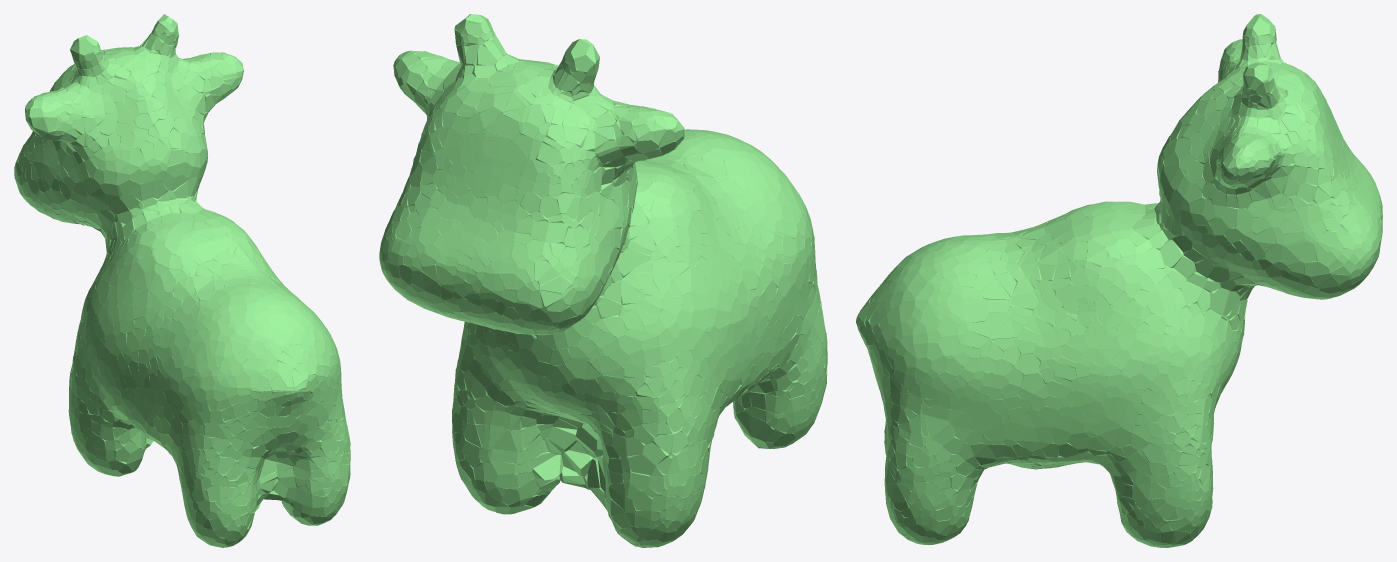
The model's file is cow_clean_vorolight.glb.
3 views of the same model, side by side, from view 1: azimuth 30°, elevation 25°; view 2: azimuth 150°, elevation 25°; view 3: azimuth 270°, elevation 25° (orthographic). The views are drawn at different scales.
Visible parts, largest first — view 1: shape50_normal10_cow_clean_polygon.obj; view 2: shape50_normal10_cow_clean_polygon.obj; view 3: shape50_normal10_cow_clean_polygon.obj.
Part boxes in pixels (box(x1,y1,x2,y2)): shape50_normal10_cow_clean_polygon.obj: box(14, 14, 350, 547); shape50_normal10_cow_clean_polygon.obj: box(379, 14, 827, 547); shape50_normal10_cow_clean_polygon.obj: box(856, 14, 1382, 547).
Size of the model in its own units: 0.7633 by 1.38 by 1.38.
